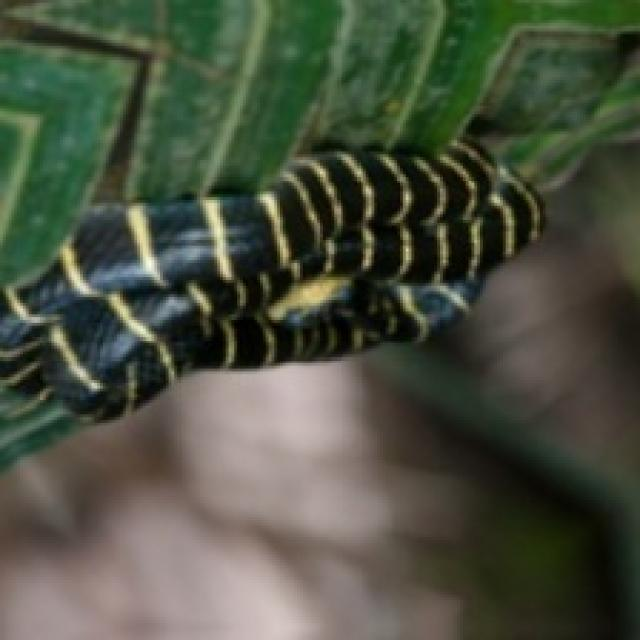mangrove cat snake: (0, 140, 543, 417)
